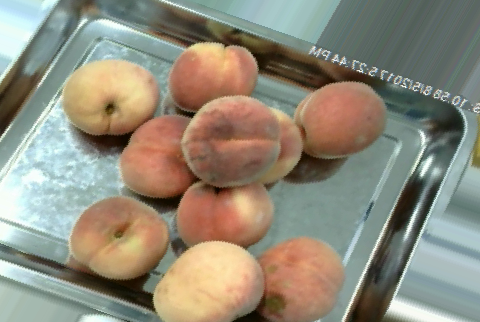Peach: (154, 238, 263, 322), (68, 195, 172, 279), (181, 96, 277, 186), (255, 237, 346, 322), (59, 59, 159, 135), (295, 81, 386, 158), (167, 39, 260, 113), (120, 113, 200, 198), (172, 181, 275, 246)
